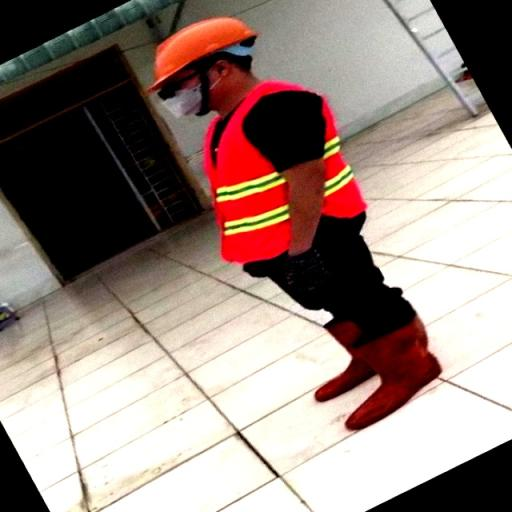Hardhat: (106, 4, 470, 442)
NO-Hardhat: (283, 248, 328, 314), (240, 249, 278, 283)
